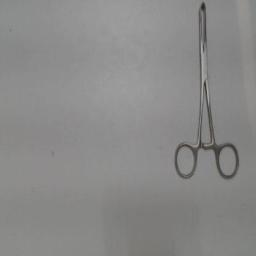Allis Tissue Forceps: (170, 2, 244, 182)
